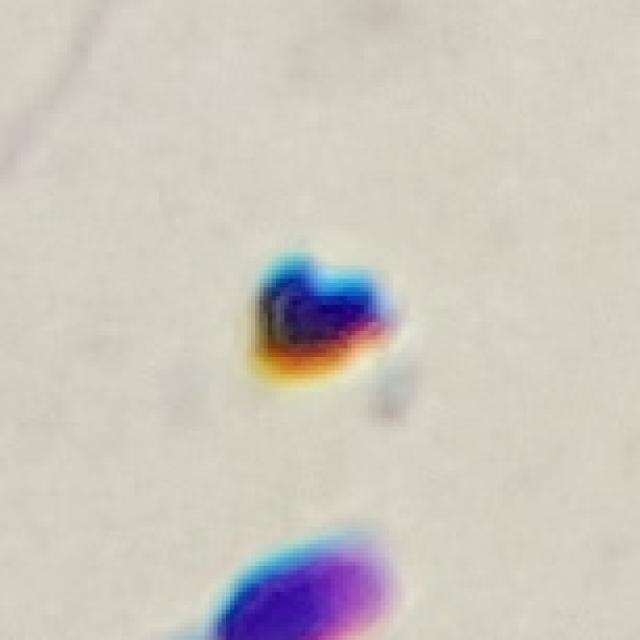normal sperm: (239, 238, 403, 397)
